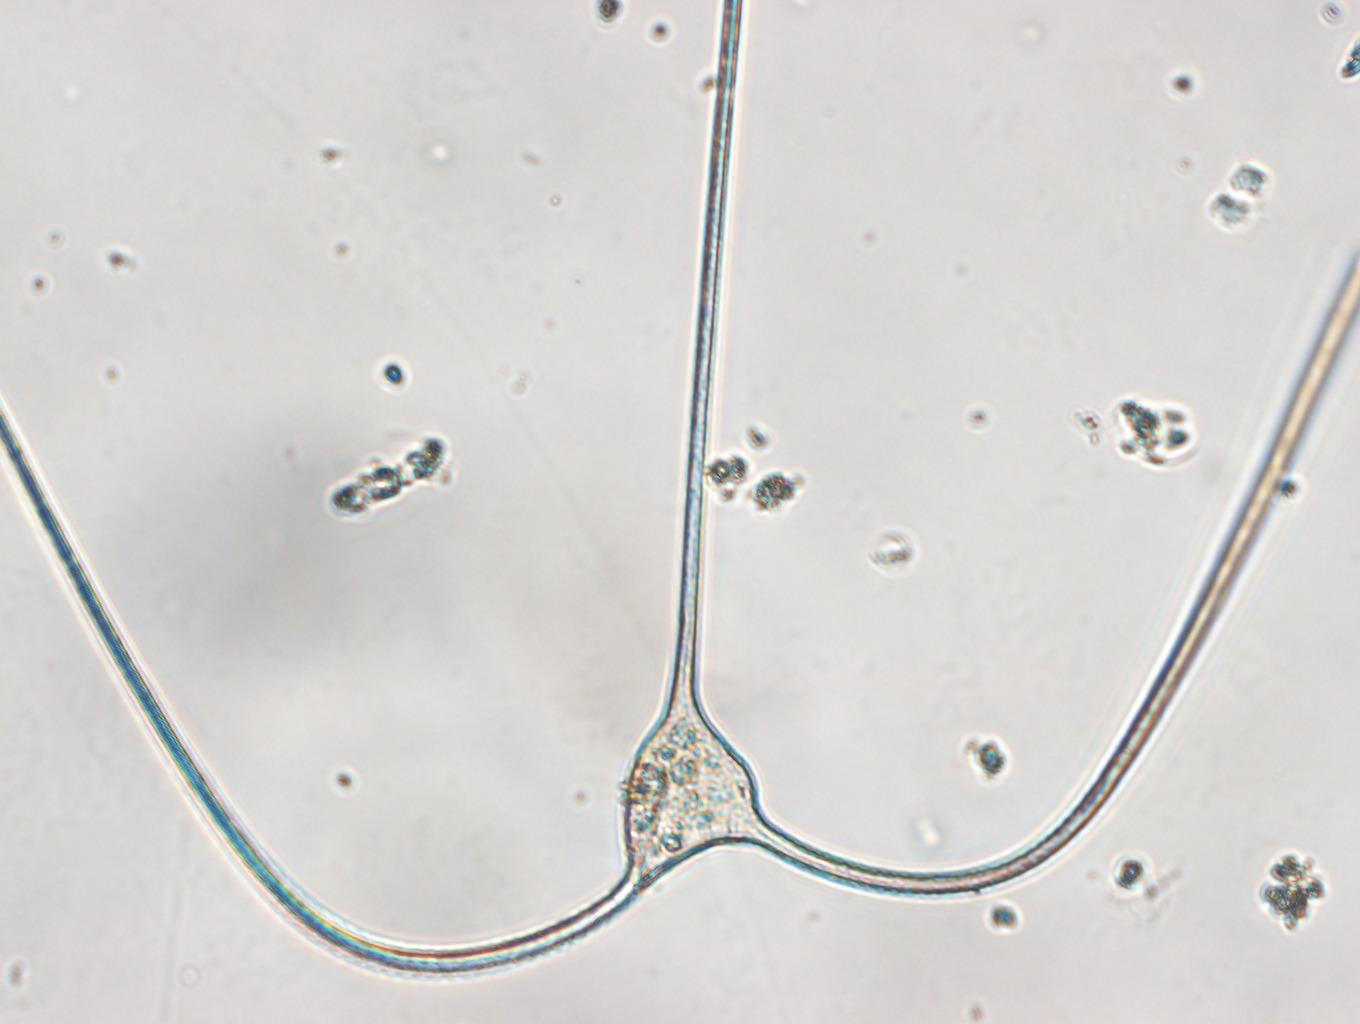ceratium trichoceros: (1, 1, 1360, 972)
